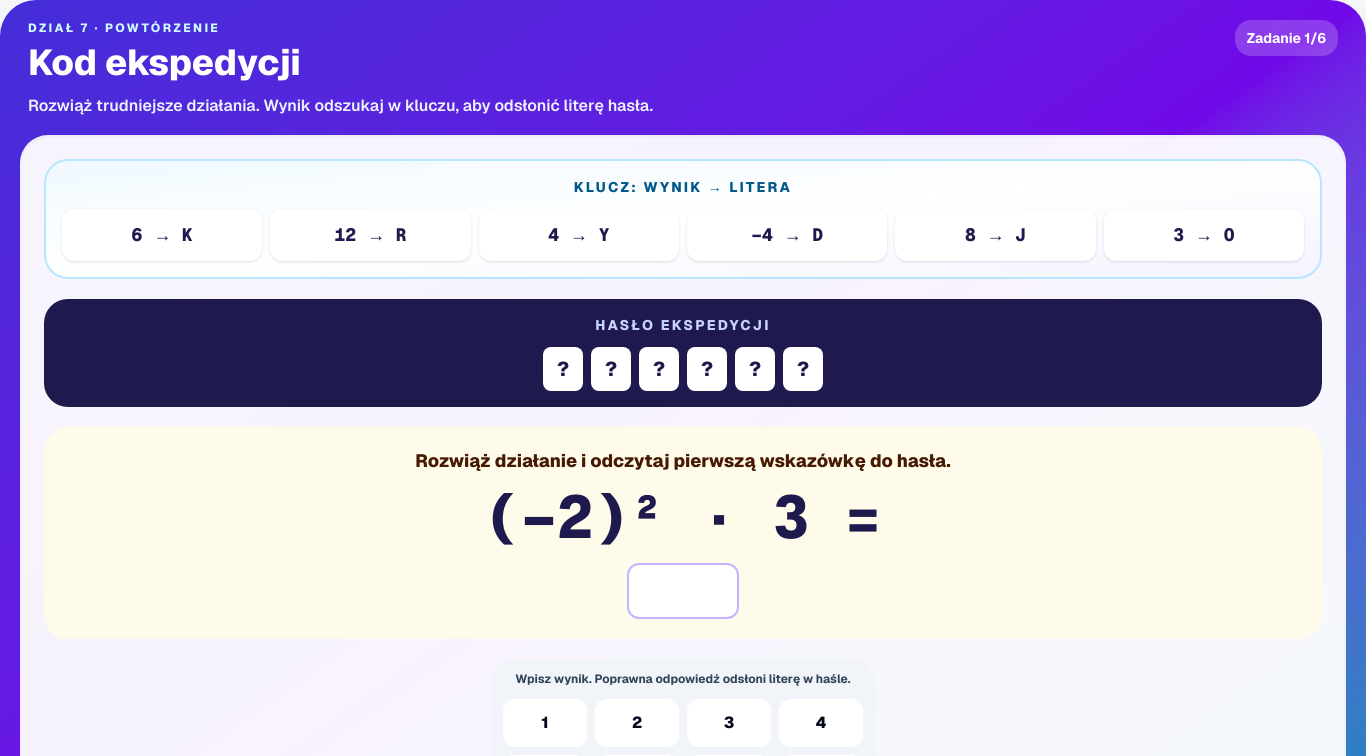
Test: IntegerReviewLessonLab › odsłania literę po rozwiązaniu zadania szyfrującego
Expected: the text "Zadanie 1/6" is shown, x1=1235 y1=20 x2=1338 y2=56
Click the button "1".
click(545, 723)  # box x1=503 y1=699 x2=587 y2=747
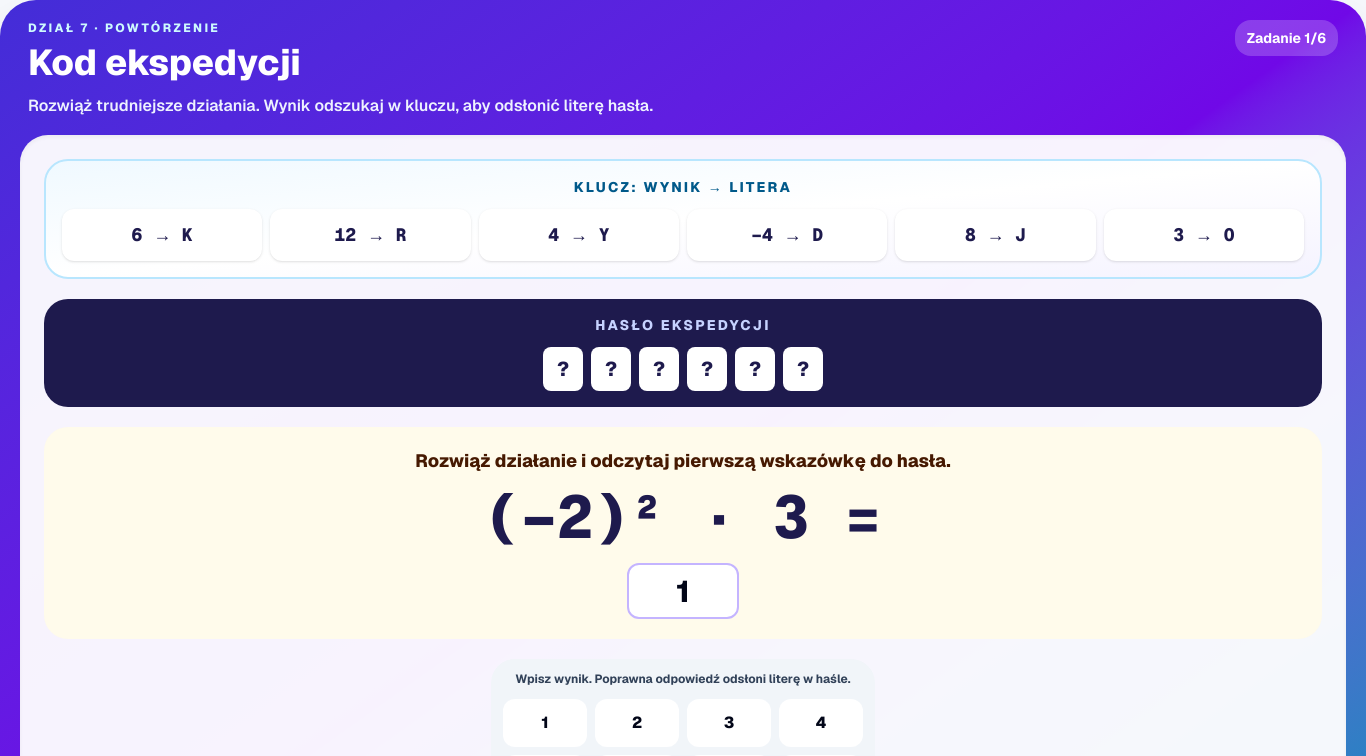
Click the button "2".
click(637, 723)  # box x1=595 y1=699 x2=679 y2=747
(page scrolled)
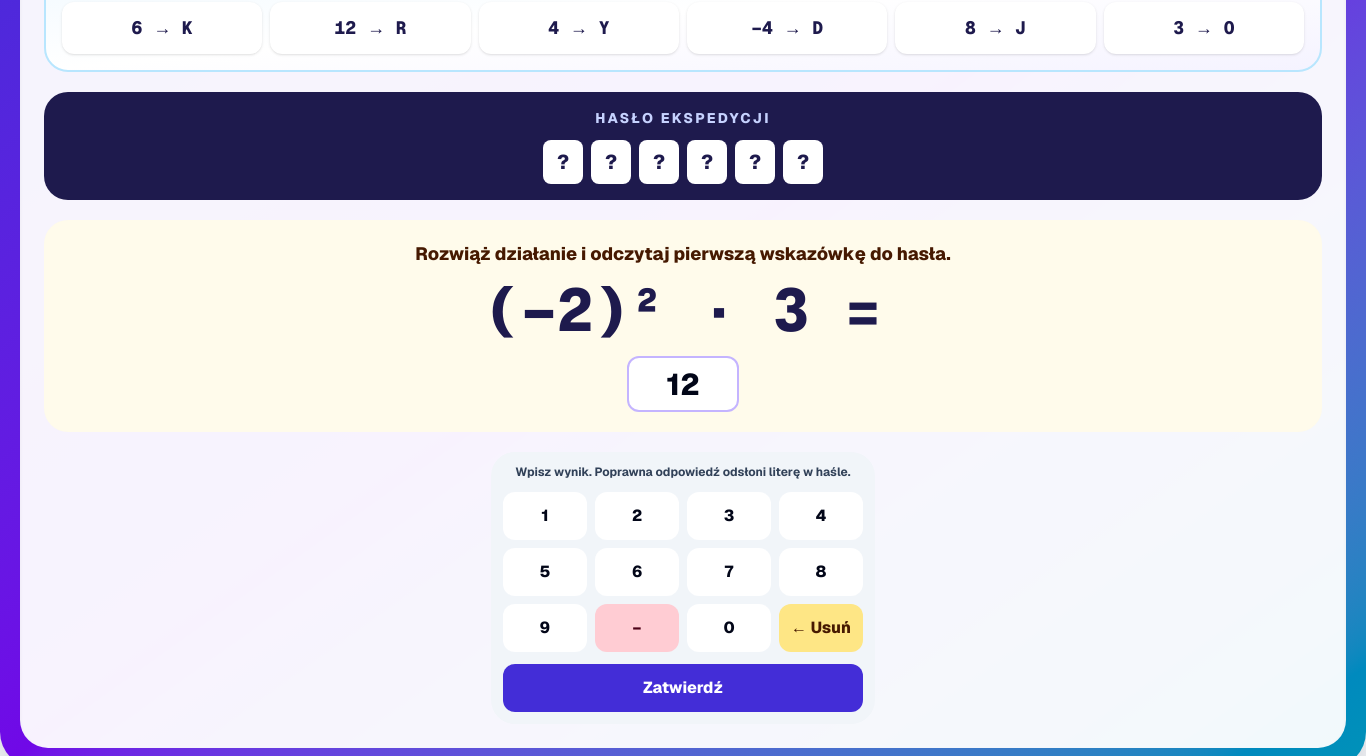
Click the button "Zatwierdź".
click(683, 688)  # box x1=503 y1=664 x2=863 y2=712
(page scrolled)
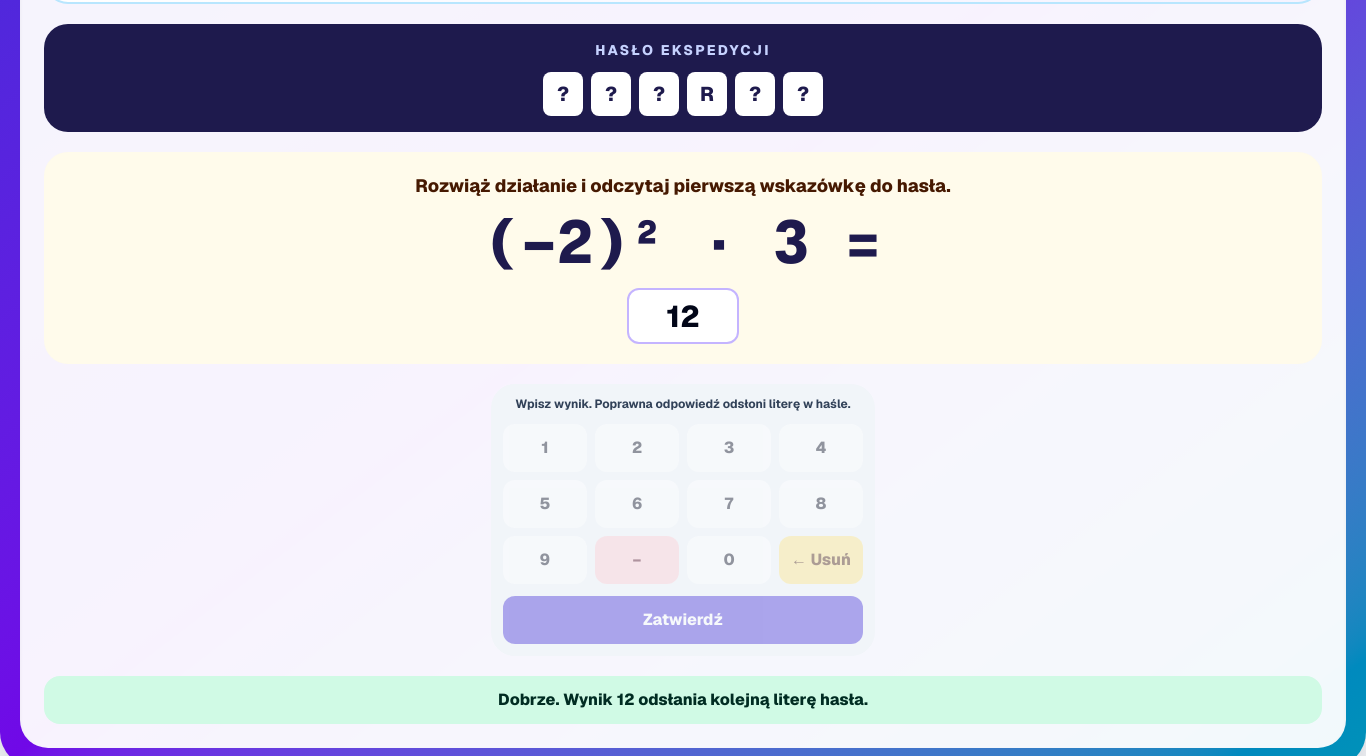
Now the element named "Odszyfrowane hasło" shows "R", box x1=700 y1=81 x2=714 y2=107
Now the message shows "odsłania kolejną literę", box x1=498 y1=689 x2=868 y2=710
